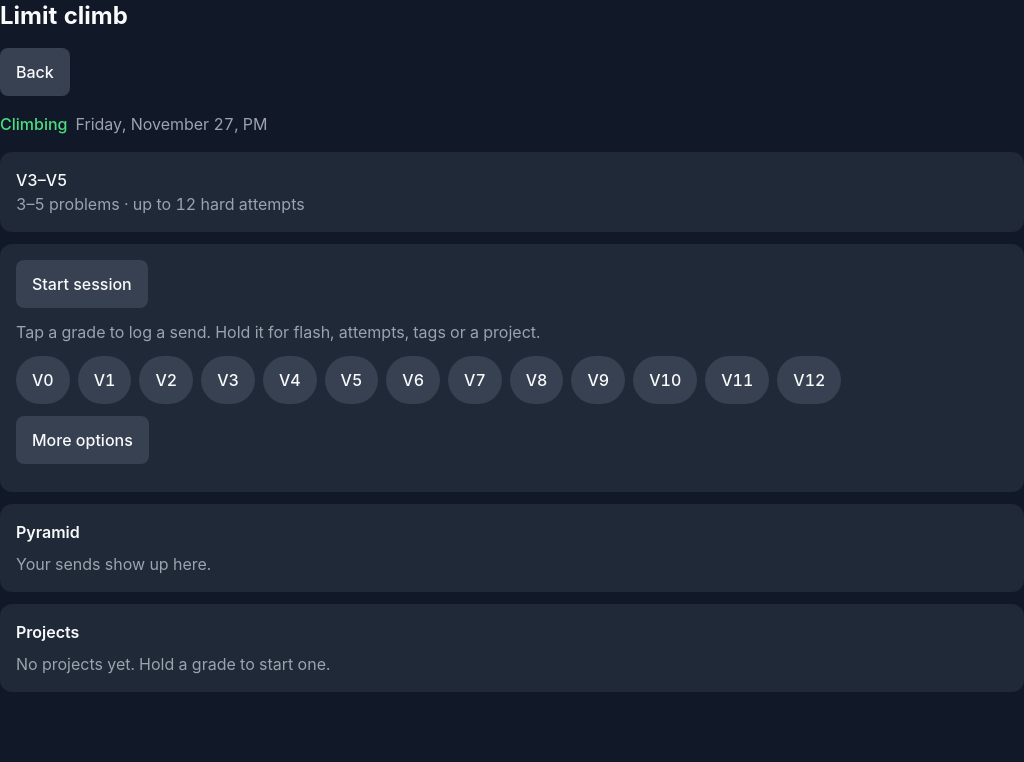
ClimbPlayer › edits or deletes a logged climb
This screenshot has width=1024, height=762.
Click the button "V4" at x=290, y=380, box [263,356,317,404]
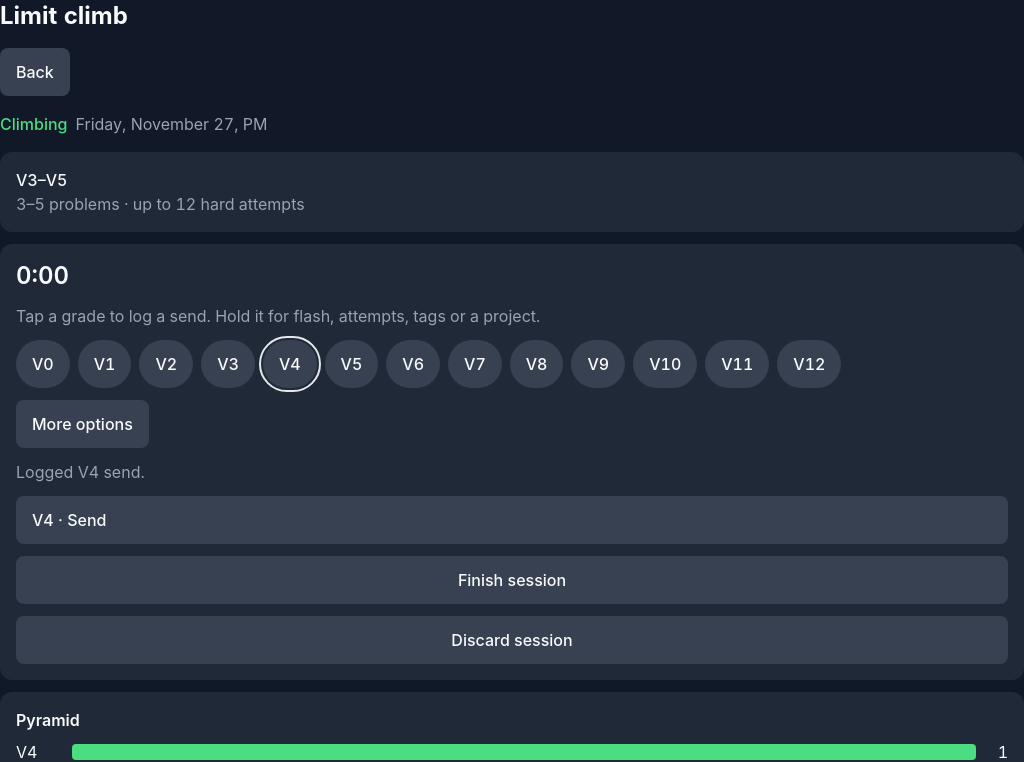
Click the button "V4 · Send" at x=69, y=520, box [16,496,1008,544]
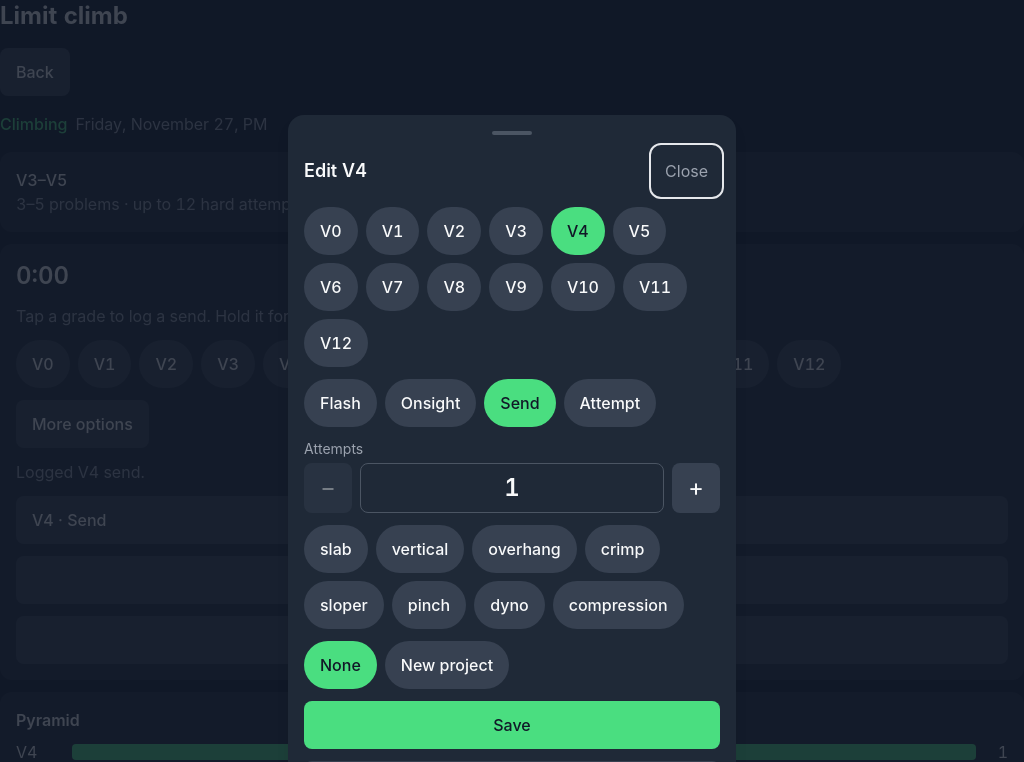
Click the radio button labelled "Flash" at x=340, y=403, box [304,379,377,427]
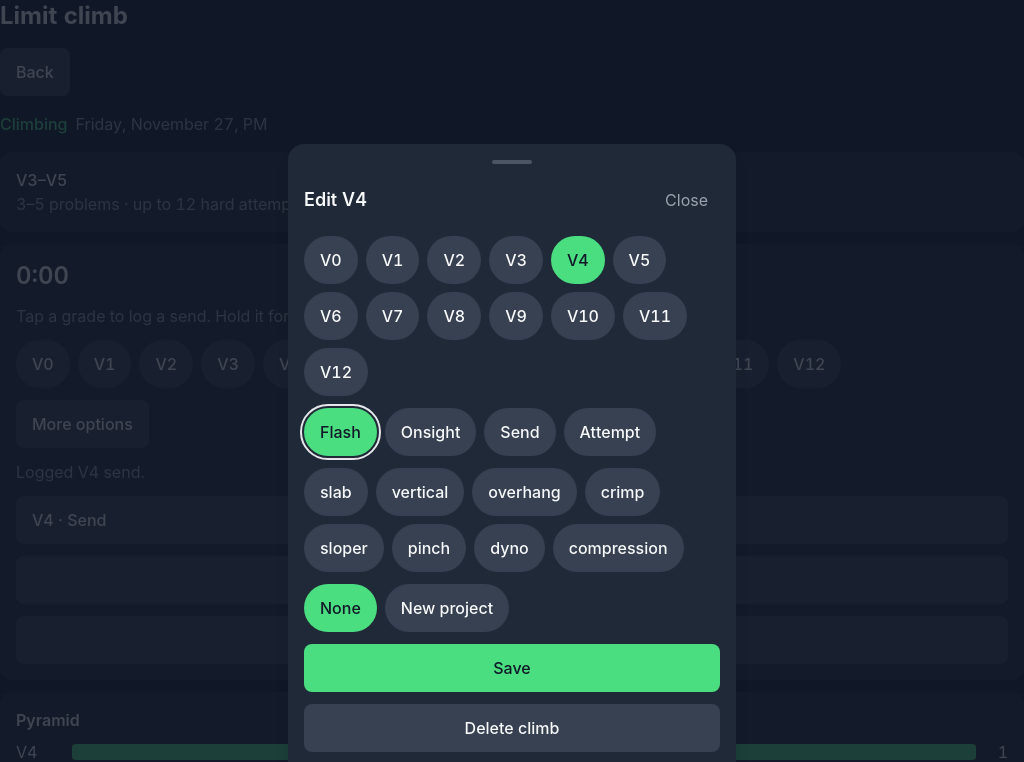
Click the button "Save" at x=512, y=668, box [304,644,720,692]
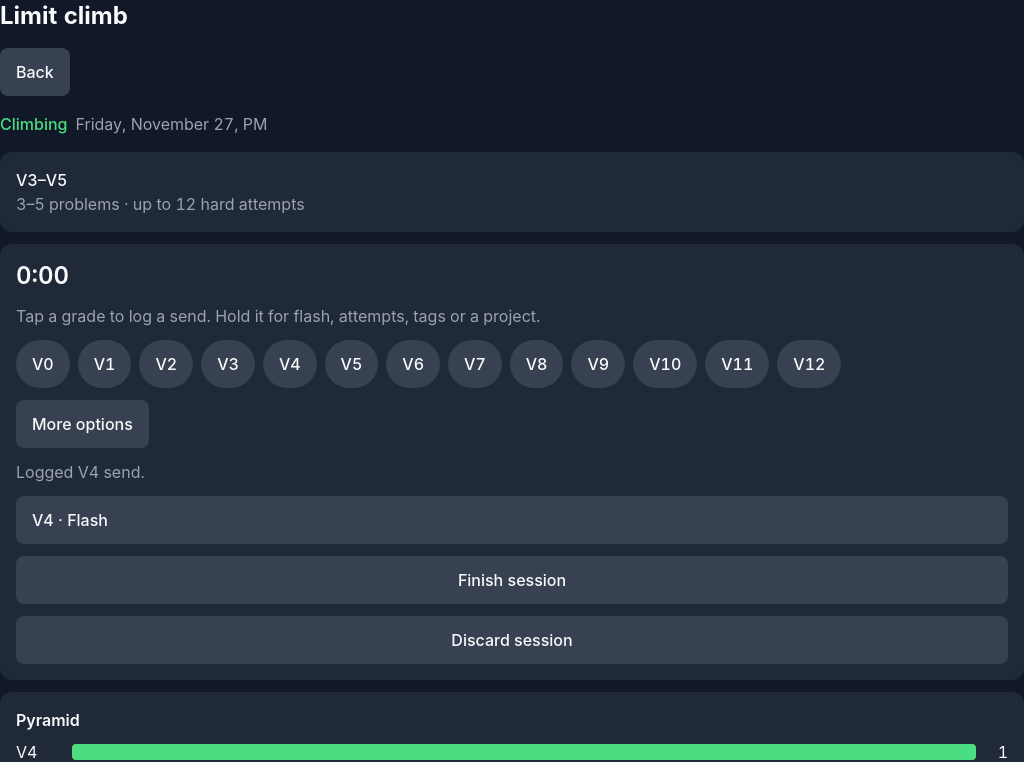
Click the button "V4 · Flash" at x=70, y=520, box [16,496,1008,544]
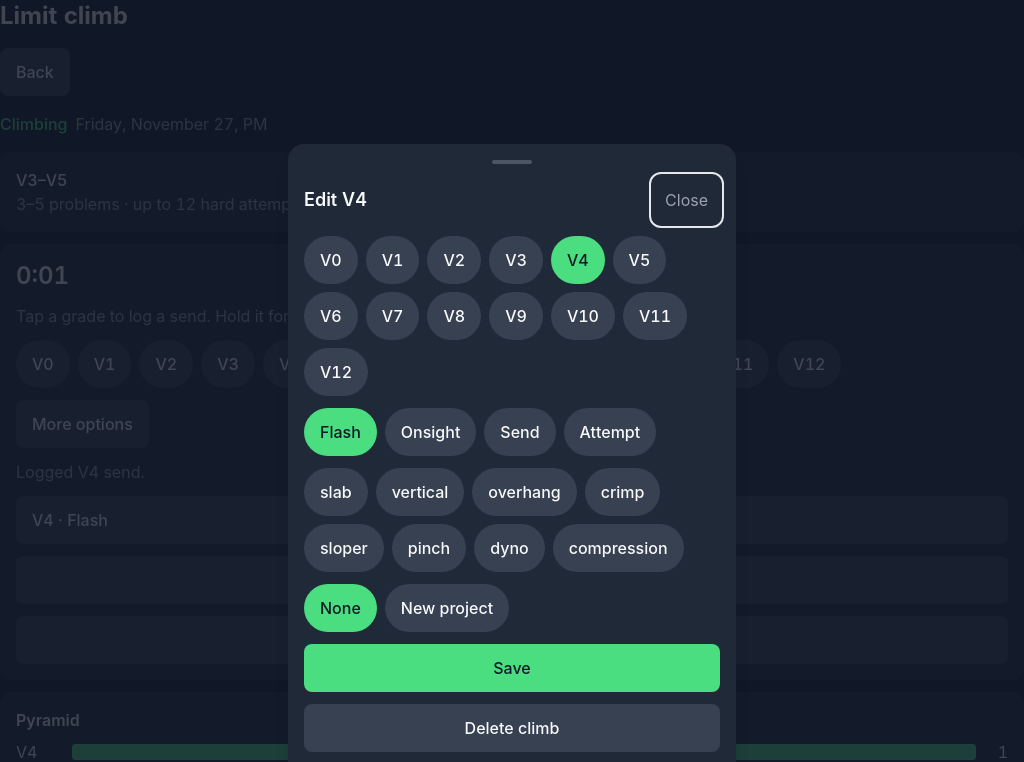
Click the button "Delete climb" at x=512, y=728, box [304,704,720,752]
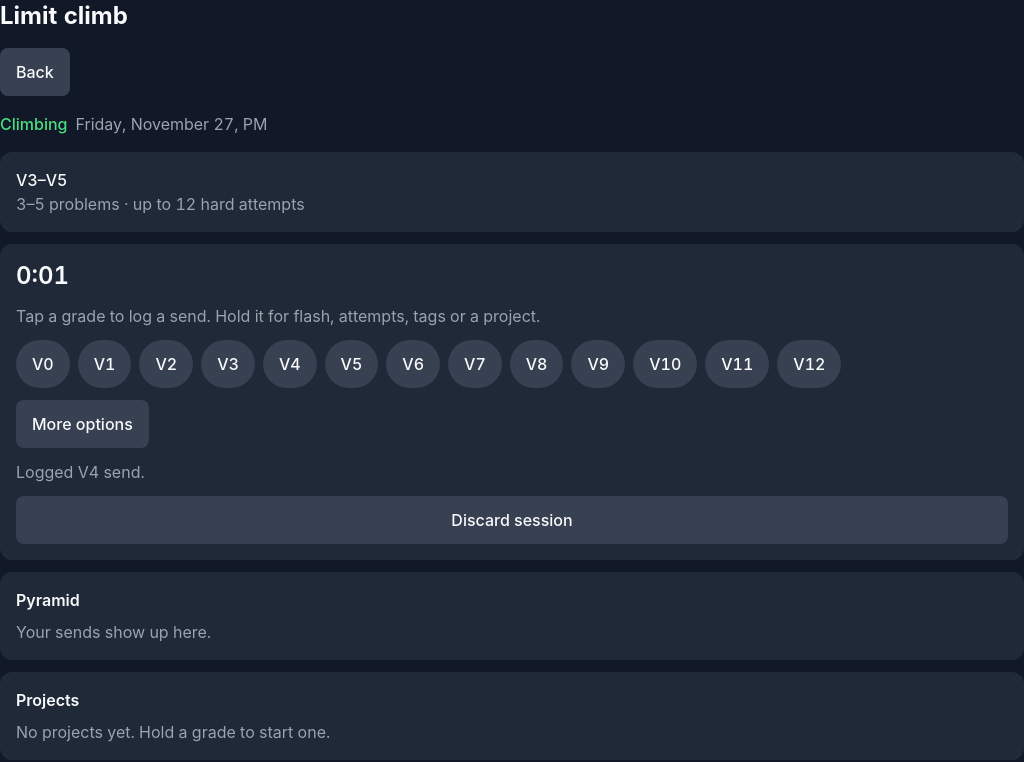
expect the text "Your sends show up here." is shown: met, box [16,622,211,642]
